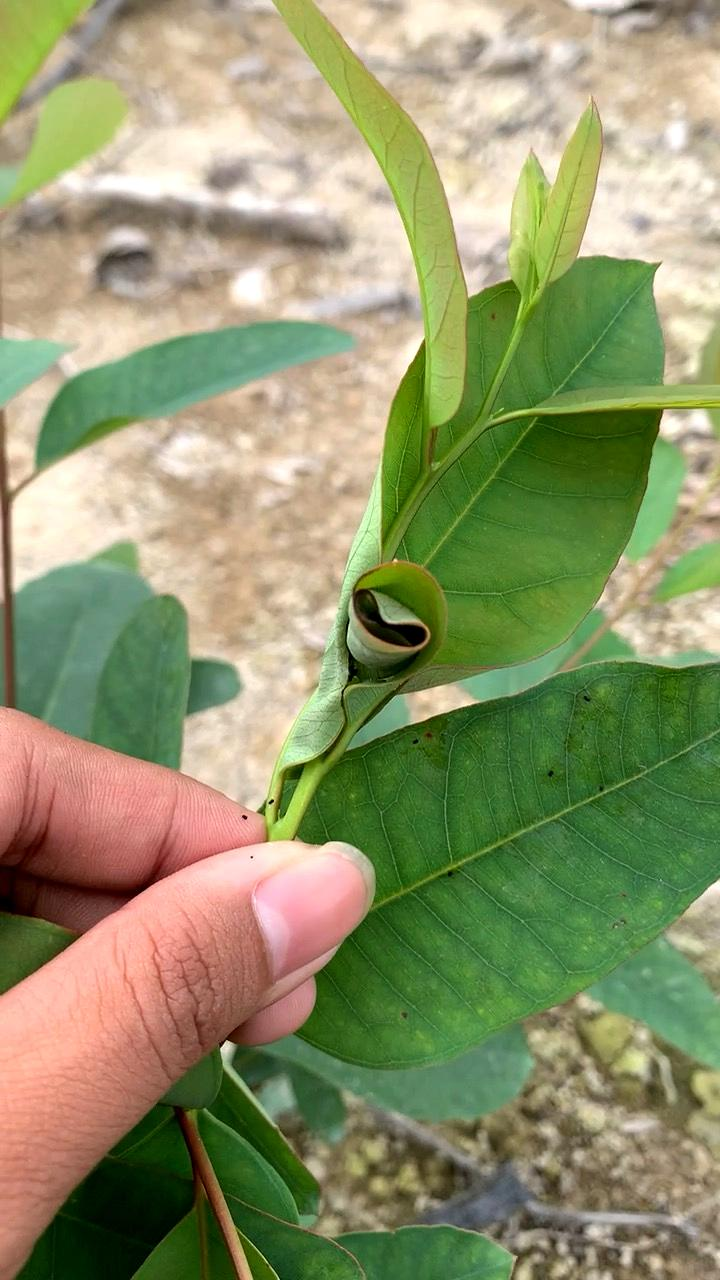Leaf Roller - Leaf: (295, 506, 497, 742)
